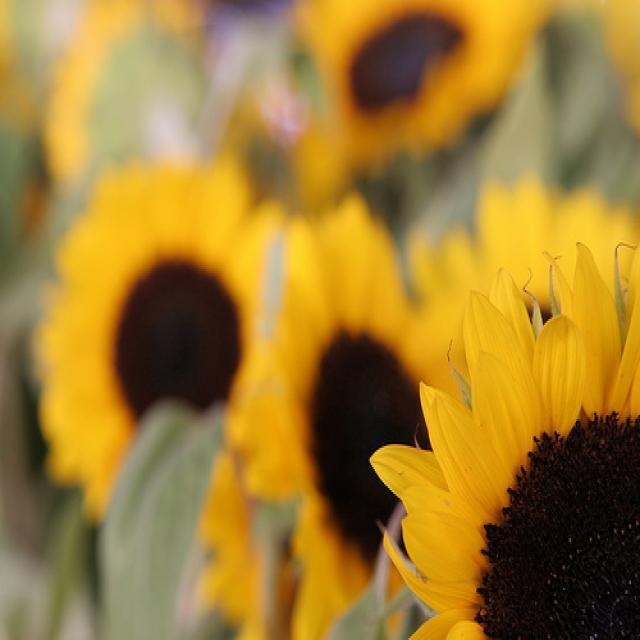sunflower: (20, 126, 286, 543), (371, 243, 639, 640), (226, 193, 463, 640), (289, 0, 558, 199), (411, 170, 640, 333)
